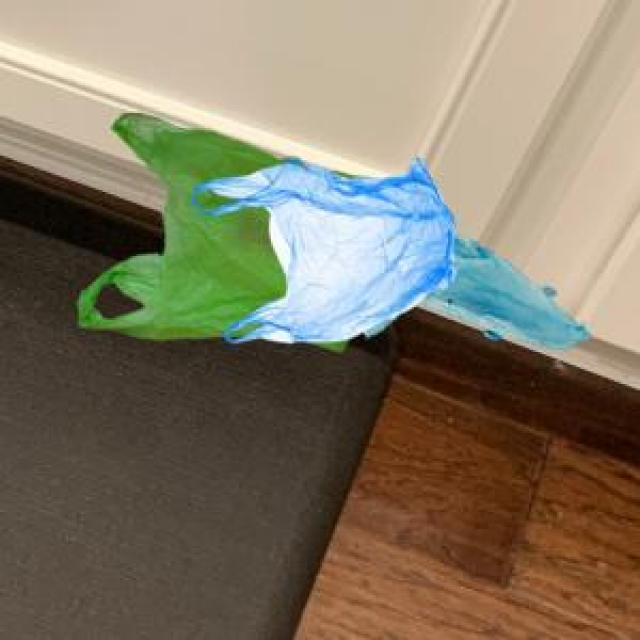waste: (76, 110, 354, 360), (217, 158, 460, 332)
